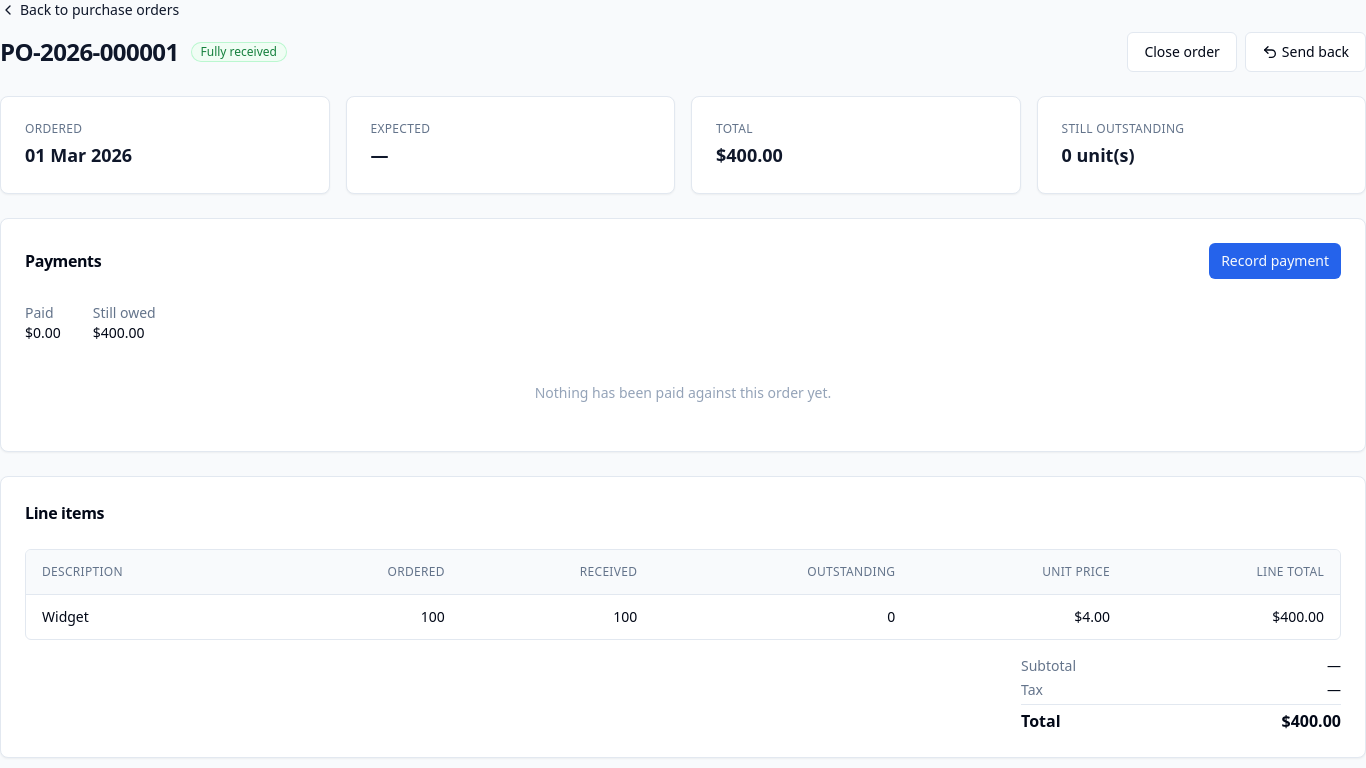
Test: sending goods back › refuses to send back more than arrived, before asking the server
Click the button "Send back" at {"x": 1305, "y": 52}, box [1245,32,1365,72]
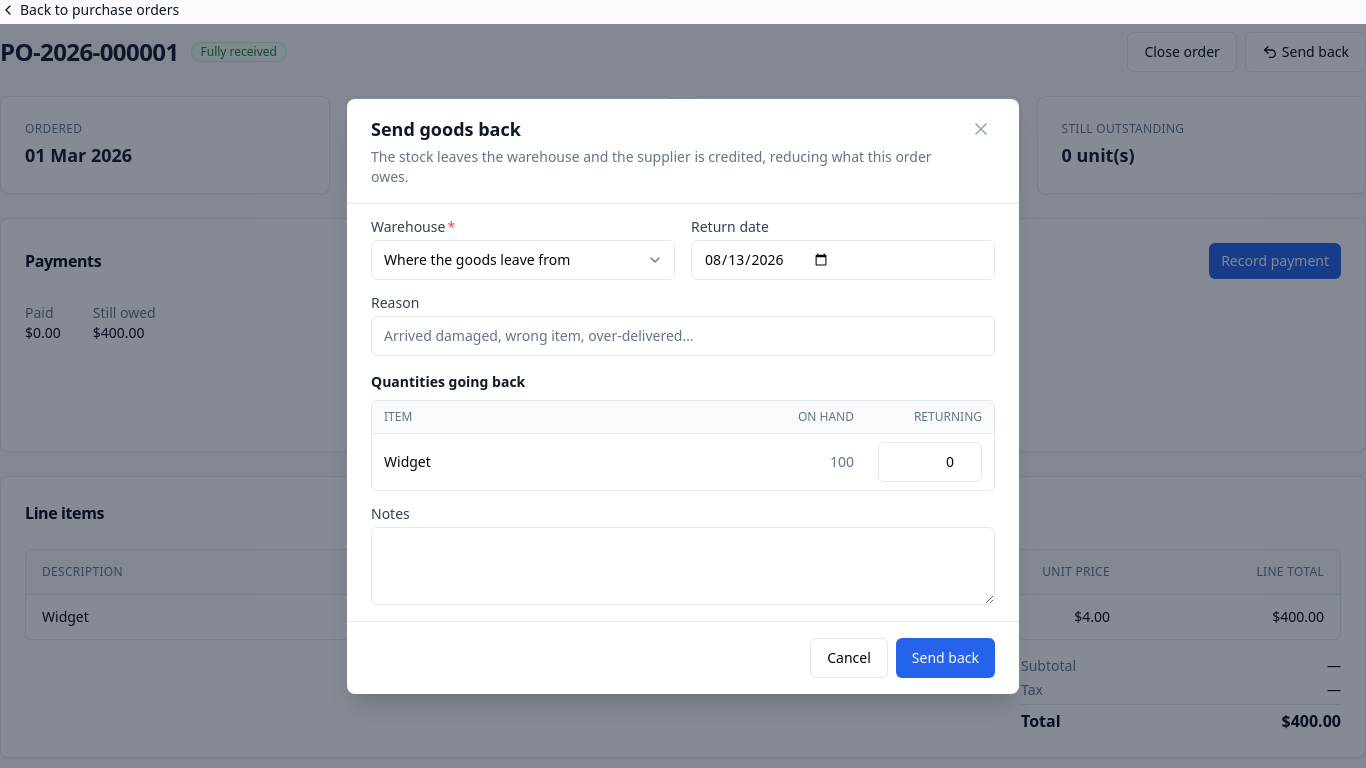
Select "MAIN — Main" in the dropdown named "Warehouse" at {"x": 523, "y": 260}, box [371,240,675,280]
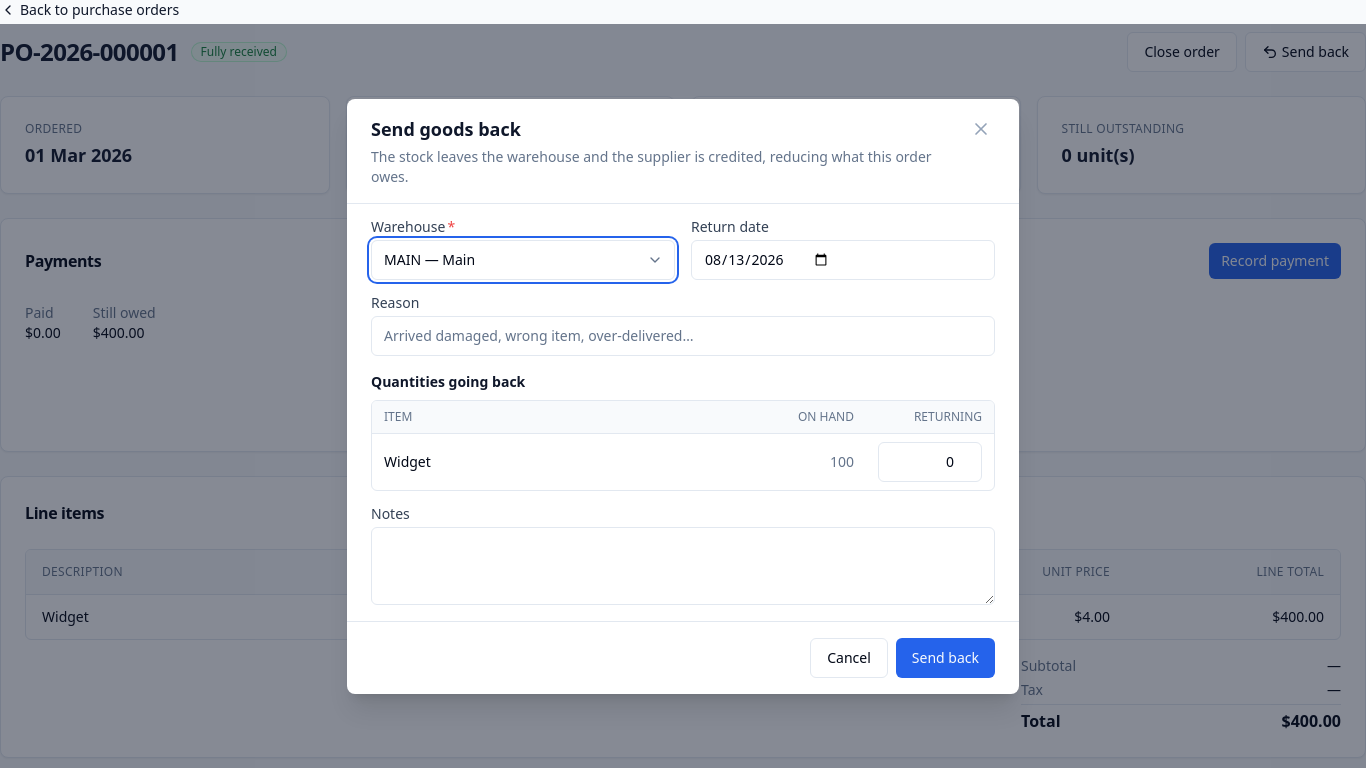
Replace the text in the number field with "150" at {"x": 930, "y": 462}, box [878,442,982,482]
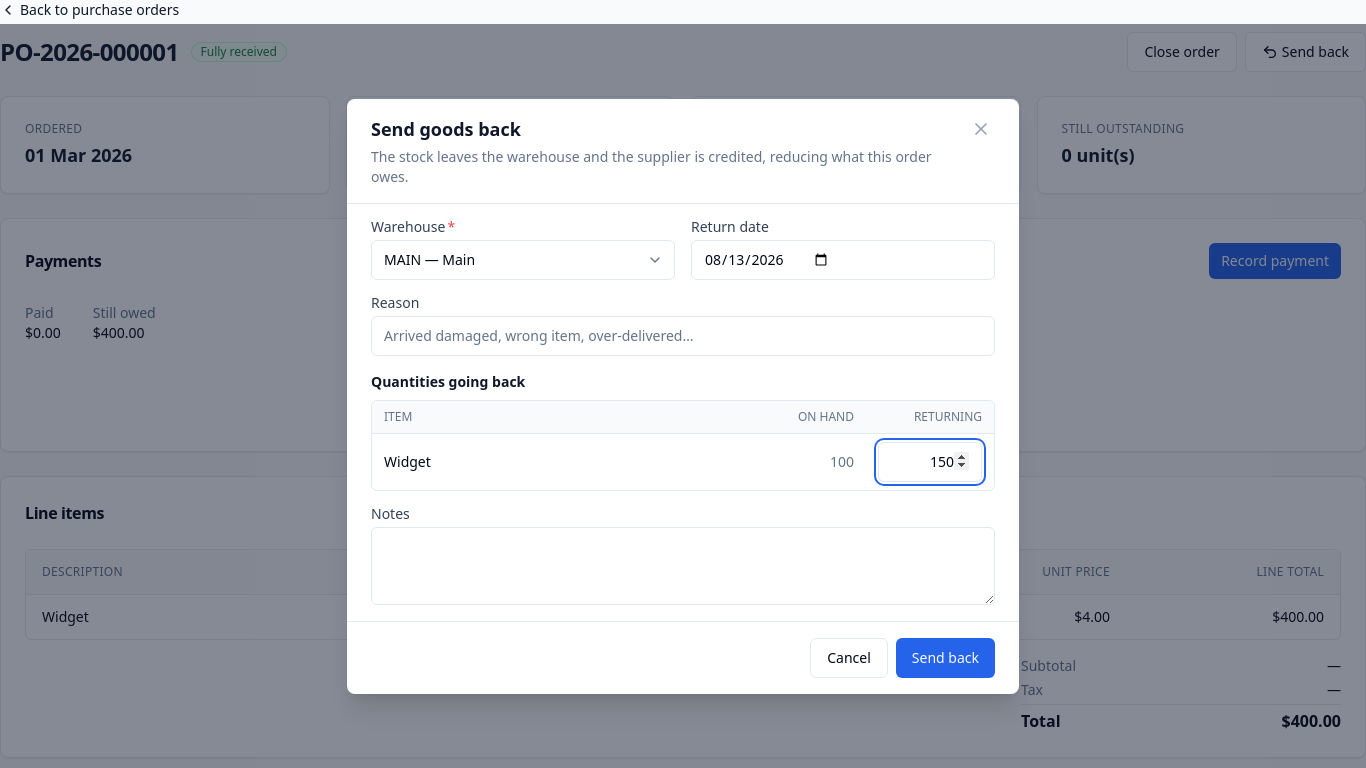
Click the button "Send back" at {"x": 945, "y": 658}, box [896,638,995,678]
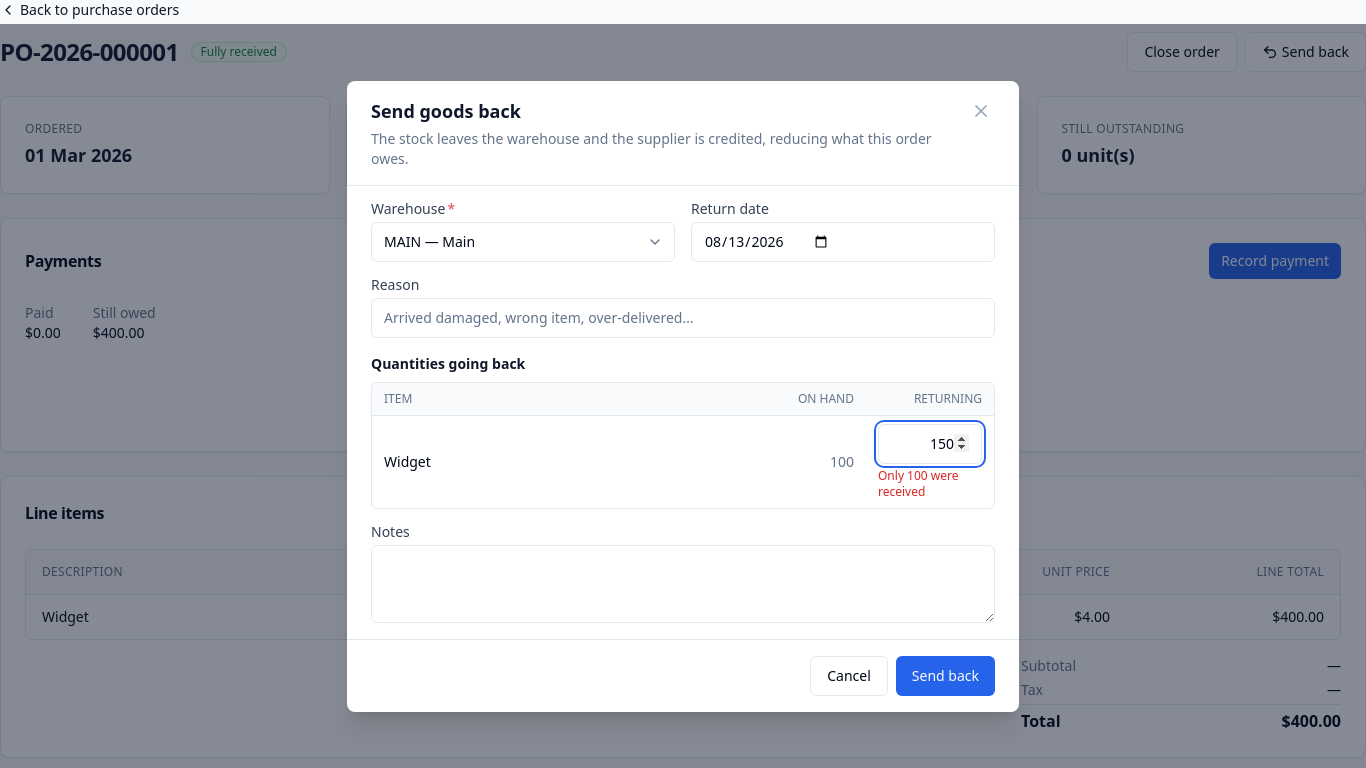
Check: the text "Only 100 were received" is shown, box [878,466,958,500]
